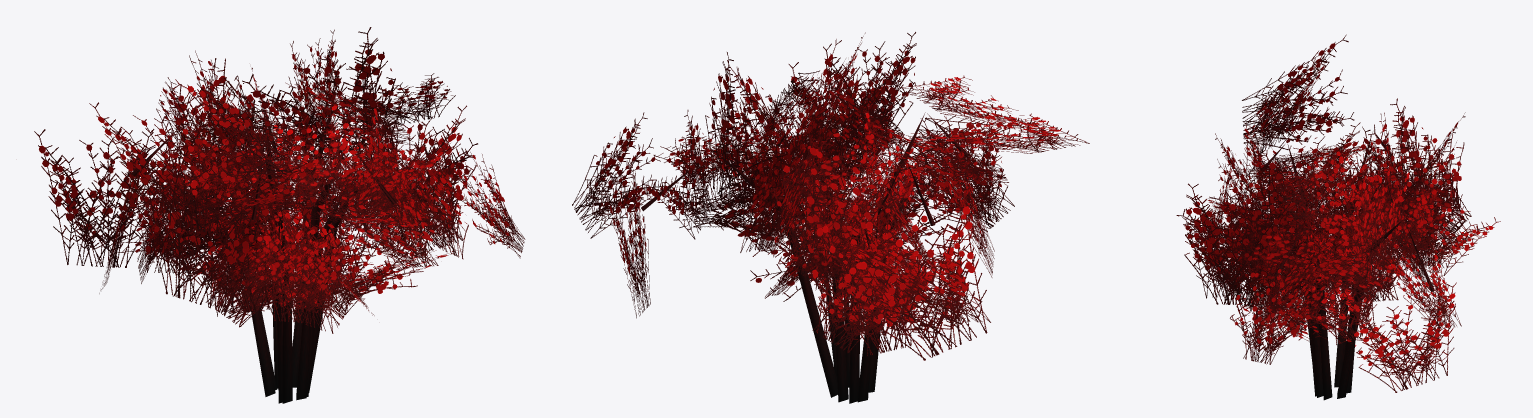
Rendered from bush_highlands_gorse_a_lod2.glb.
3 views of the same model, side by side, from view 1: azimuth 30°, elevation 25°; view 2: azimuth 150°, elevation 25°; view 3: azimuth 270°, elevation 25° (orthographic). The views are drawn at different scales.
Visible parts, largest first — view 1: bush_highlands_gorse_a; view 2: bush_highlands_gorse_a; view 3: bush_highlands_gorse_a.
Part boxes in pixels (x1,y1,x2,y2): bush_highlands_gorse_a: (34, 27, 525, 403); bush_highlands_gorse_a: (572, 32, 1089, 403); bush_highlands_gorse_a: (1176, 34, 1500, 400).
Size of the model in its own units: 1.57 by 1.17 by 1.23.
Materials: 1 (1 with a texture image).
